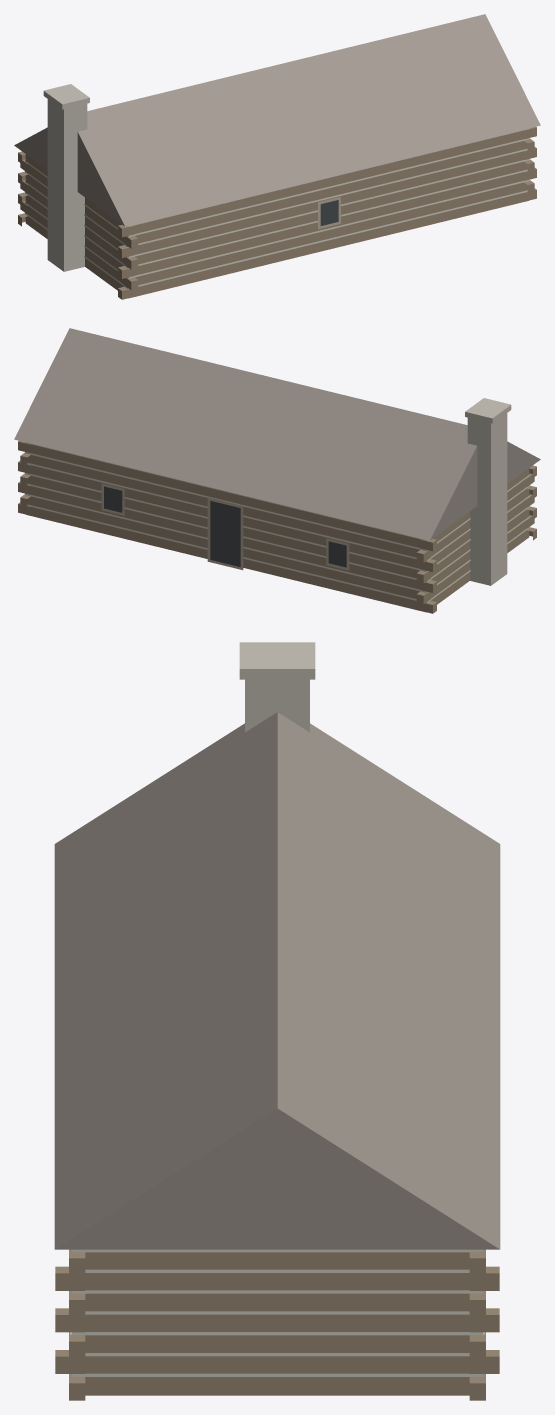
Rendered from hogan_store__log_1831.glb.
3 views of the same model, one above another, from view 1: azimuth 30°, elevation 25°; view 2: azimuth 150°, elevation 25°; view 3: azimuth 270°, elevation 25° (orthographic). The views are drawn at different scales.
Visible parts, largest first — view 1: hogan_store__log_1831; view 2: hogan_store__log_1831; view 3: hogan_store__log_1831.
Part boxes in pixels (x1=…): hogan_store__log_1831: x1=14, y1=14, x2=540, y2=299; hogan_store__log_1831: x1=14, y1=328, x2=540, y2=613; hogan_store__log_1831: x1=54, y1=642, x2=500, y2=1400.
Size of the model in its own units: 14.79 by 5.59 by 6.6.
